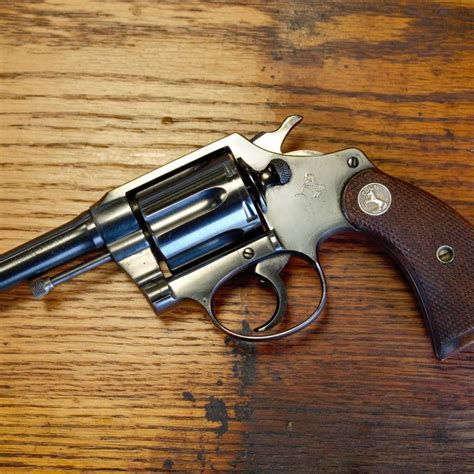gun: (1, 113, 474, 363)
